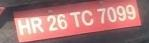0: (105, 5, 117, 22)
2: (45, 13, 58, 30)
6: (55, 13, 68, 29)
7: (95, 6, 106, 23)
9: (124, 3, 136, 19), (115, 4, 126, 20)
C: (80, 9, 94, 26)
H: (14, 17, 31, 34)
R: (29, 16, 46, 33)
T: (68, 10, 81, 27)
